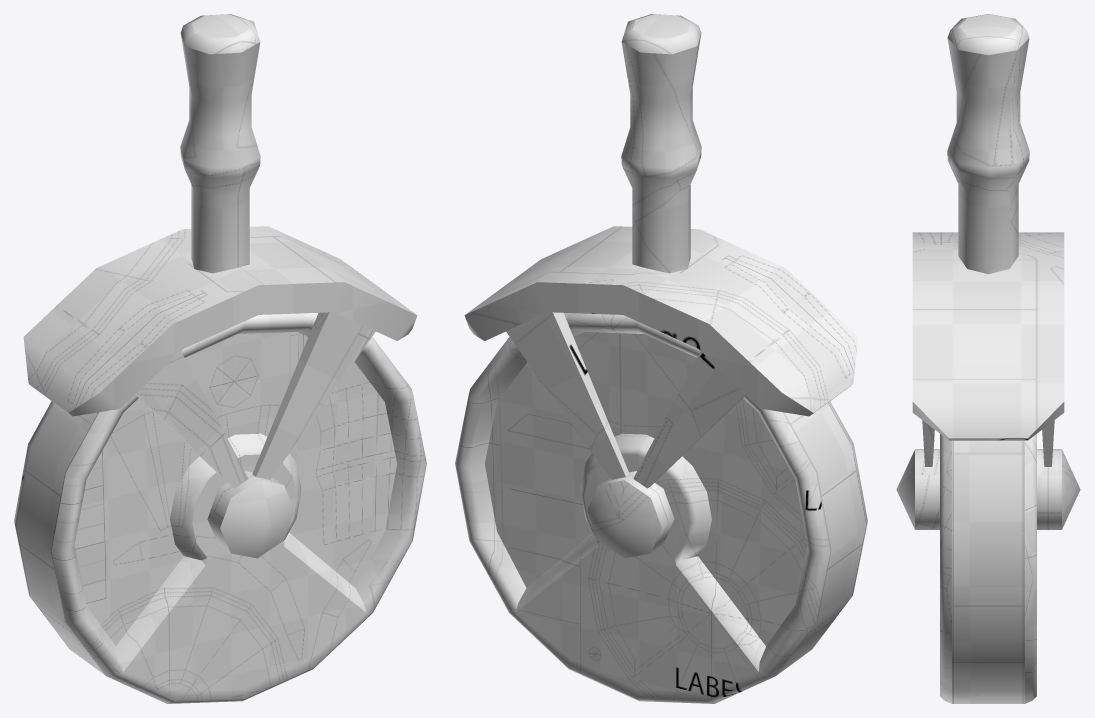
File: lever_basic.fbx
The picture shows the model from 3 angles, left to right: view 1: azimuth 30°, elevation 25°; view 2: azimuth 150°, elevation 25°; view 3: azimuth 270°, elevation 25°; orthographic projection.
Parts seen in each view (by area): view 1: lever_body, lever_handle; view 2: lever_body, lever_handle; view 3: lever_handle, lever_body.
Part boxes in pixels (bbox=[...]): lever_body: bbox=[14, 313, 426, 703]; lever_handle: bbox=[23, 14, 417, 558]; lever_body: bbox=[455, 313, 867, 703]; lever_handle: bbox=[464, 14, 858, 558]; lever_handle: bbox=[896, 14, 1080, 529]; lever_body: bbox=[940, 434, 1036, 703].
Size of the model in its own units: 40 by 68.01 by 17.16.
